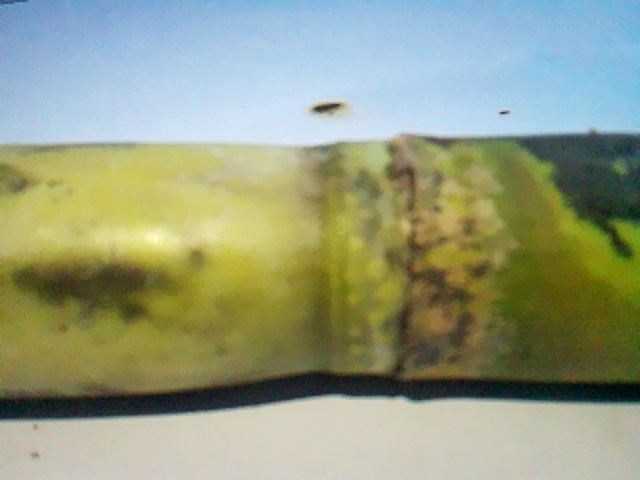Good Sugarcane: (0, 130, 637, 406)
Node: (303, 130, 516, 390)
